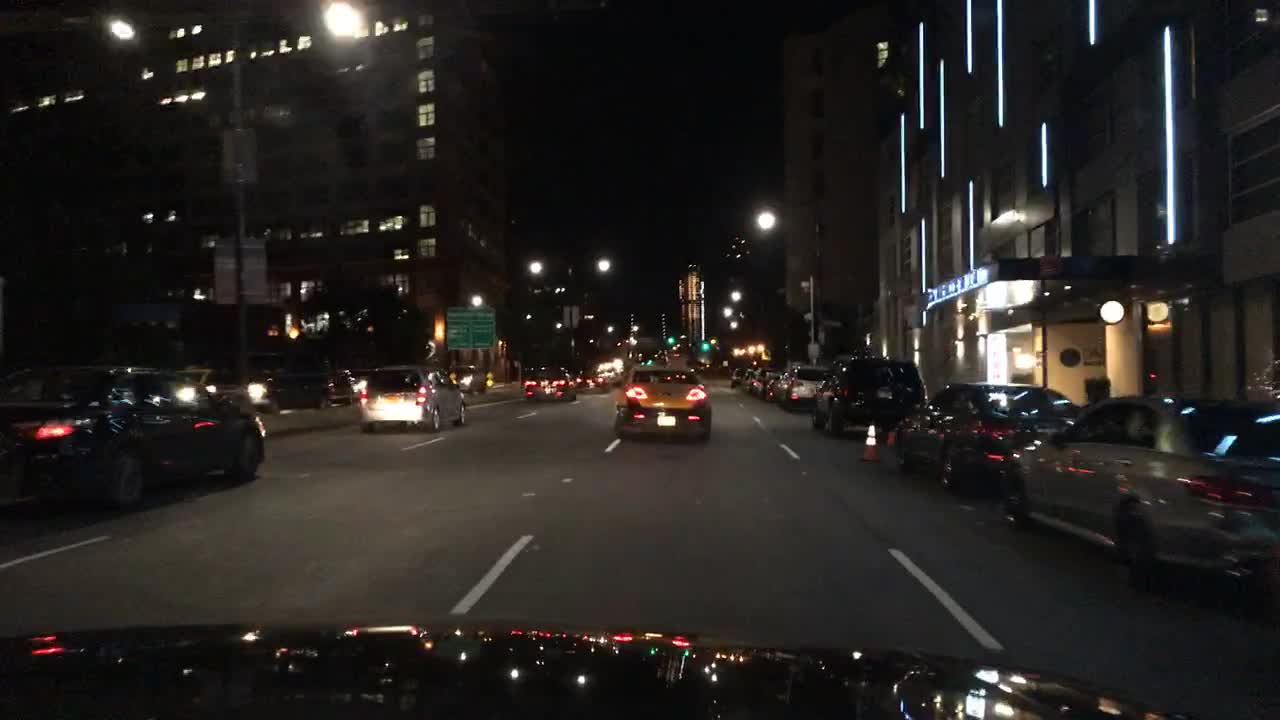car: (996, 392, 1277, 600), (0, 366, 267, 515), (894, 382, 1076, 497), (810, 358, 930, 442), (614, 365, 712, 442), (361, 365, 468, 435), (765, 363, 839, 410), (186, 367, 260, 413), (257, 368, 323, 410), (523, 364, 575, 404), (322, 369, 370, 401), (445, 362, 487, 392), (750, 364, 785, 398), (571, 364, 608, 391), (742, 368, 758, 391), (731, 367, 746, 389), (640, 357, 653, 366), (671, 350, 680, 357)
traffic light: (702, 339, 709, 351), (667, 334, 674, 344)
traffic sign: (211, 237, 273, 304), (221, 126, 262, 185), (445, 305, 493, 351)
